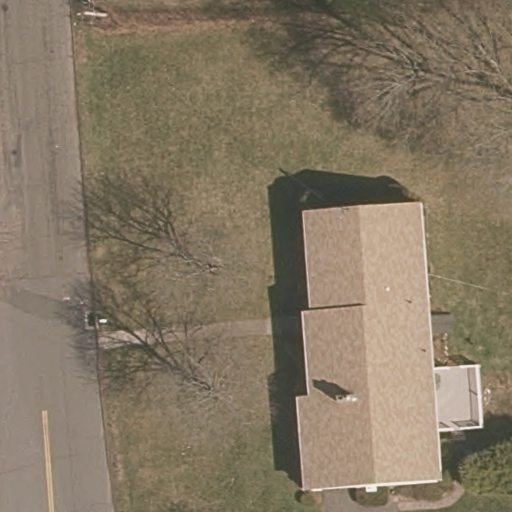DT: (71, 2, 113, 27)
